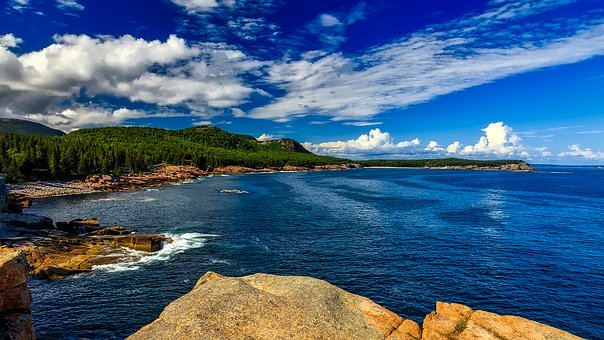mountain: (12, 121, 339, 174)
sea: (10, 164, 597, 322)
sky: (3, 1, 602, 158)
